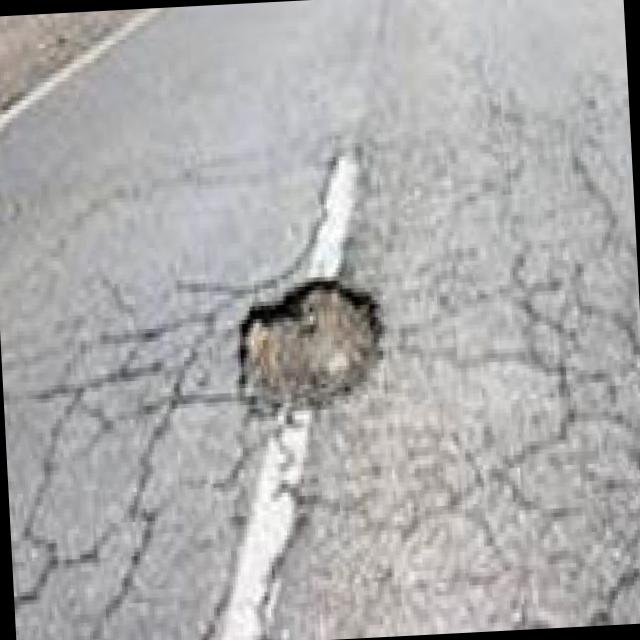Potholes: (231, 262, 397, 445)
